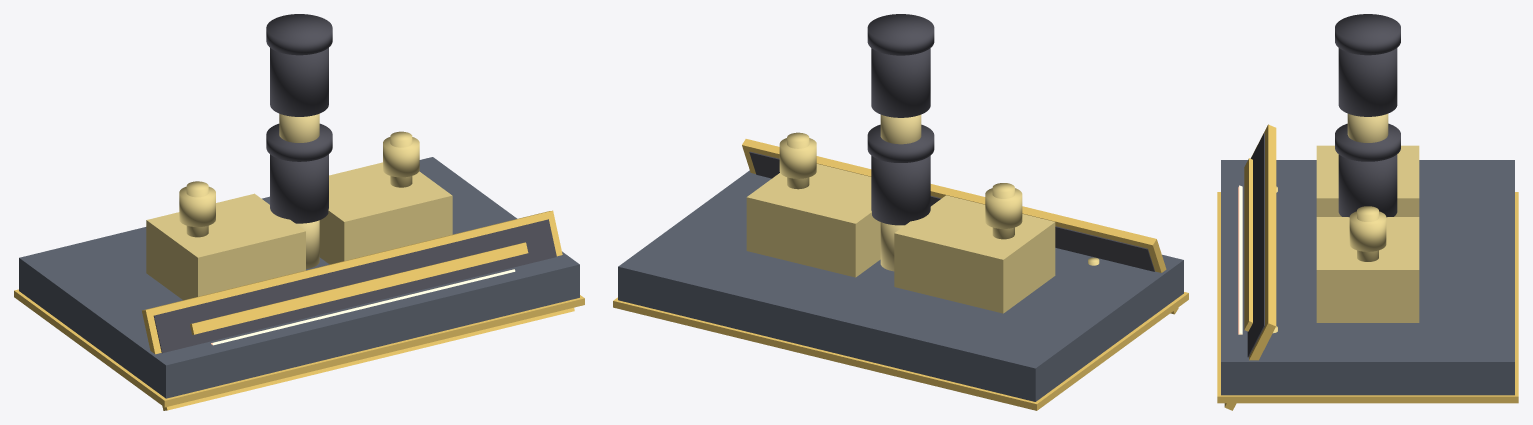
File: switch.glb
3 renders of one model, left to right at view 1: azimuth 30°, elevation 25°; view 2: azimuth 150°, elevation 25°; view 3: azimuth 270°, elevation 25°, orthographic.
Parts seen in each view (by area): view 1: sw_full_plinth, sw_sec_plaque_face, sw_full_block_left, sw_full_block_right, sw_sec_plaque_trim, sw_full_plinth_rim, sw_sec_title_bar, sw_sec_handle, sw_full_handle, sw_sec_handle_top, sw_full_handle_top, sw_full_nut_right (+6 smaller); view 2: sw_full_plinth, sw_full_block_left, sw_full_block_right, sw_full_plinth_rim, sw_sec_handle, sw_full_handle, sw_sec_plaque_trim, sw_sec_plaque_face, sw_sec_handle_top, sw_full_handle_top, sw_full_nut_right, sw_full_nut_left (+4 smaller); view 3: sw_full_plinth, sw_full_block_right, sw_full_plinth_rim, sw_sec_handle, sw_full_block_left, sw_full_handle, sw_sec_plaque_trim, sw_sec_plaque_face, sw_sec_handle_top, sw_full_handle_top, sw_sec_title_bar, sw_full_nut_right (+3 smaller).
Part boxes in pixels (bbox=[...]): sw_full_plinth: bbox=[19, 157, 579, 398]; sw_sec_plaque_face: bbox=[153, 219, 556, 353]; sw_full_block_left: bbox=[146, 193, 305, 300]; sw_full_block_right: bbox=[319, 162, 452, 264]; sw_sec_plaque_trim: bbox=[142, 210, 574, 410]; sw_full_plinth_rim: bbox=[14, 289, 584, 407]; sw_sec_title_bar: bbox=[190, 242, 528, 334]; sw_sec_handle: bbox=[270, 48, 328, 116]; sw_full_handle: bbox=[270, 154, 328, 223]; sw_sec_handle_top: bbox=[266, 14, 332, 55]; sw_full_handle_top: bbox=[266, 123, 332, 161]; sw_full_nut_right: bbox=[383, 137, 419, 177]; sw_full_plinth: bbox=[618, 170, 1183, 401]; sw_full_block_left: bbox=[894, 195, 1055, 313]; sw_full_block_right: bbox=[746, 164, 880, 277]; sw_full_plinth_rim: bbox=[613, 292, 1188, 410]; sw_sec_handle: bbox=[871, 48, 930, 117]; sw_full_handle: bbox=[871, 156, 930, 225]; sw_sec_plaque_trim: bbox=[742, 139, 1178, 314]; sw_sec_plaque_face: bbox=[749, 151, 1154, 271]; sw_sec_handle_top: bbox=[867, 14, 934, 55]; sw_full_handle_top: bbox=[867, 124, 934, 162]; sw_full_nut_right: bbox=[779, 138, 816, 178]; sw_full_nut_left: bbox=[985, 188, 1022, 228]; sw_full_plinth: bbox=[1221, 160, 1514, 395]; sw_full_block_right: bbox=[1316, 217, 1419, 322]; sw_full_plinth_rim: bbox=[1217, 192, 1518, 403]; sw_sec_handle: bbox=[1338, 48, 1397, 116]; sw_full_block_left: bbox=[1316, 145, 1419, 216]; sw_full_handle: bbox=[1338, 154, 1397, 217]; sw_sec_plaque_trim: bbox=[1224, 124, 1276, 410]; sw_sec_plaque_face: bbox=[1247, 133, 1264, 357]; sw_sec_handle_top: bbox=[1335, 14, 1400, 55]; sw_full_handle_top: bbox=[1335, 123, 1400, 161]; sw_sec_title_bar: bbox=[1244, 158, 1252, 331]; sw_full_nut_right: bbox=[1349, 211, 1386, 251].
Bounding box in the file's own units: 0.132 × 0.0852 × 0.082.
